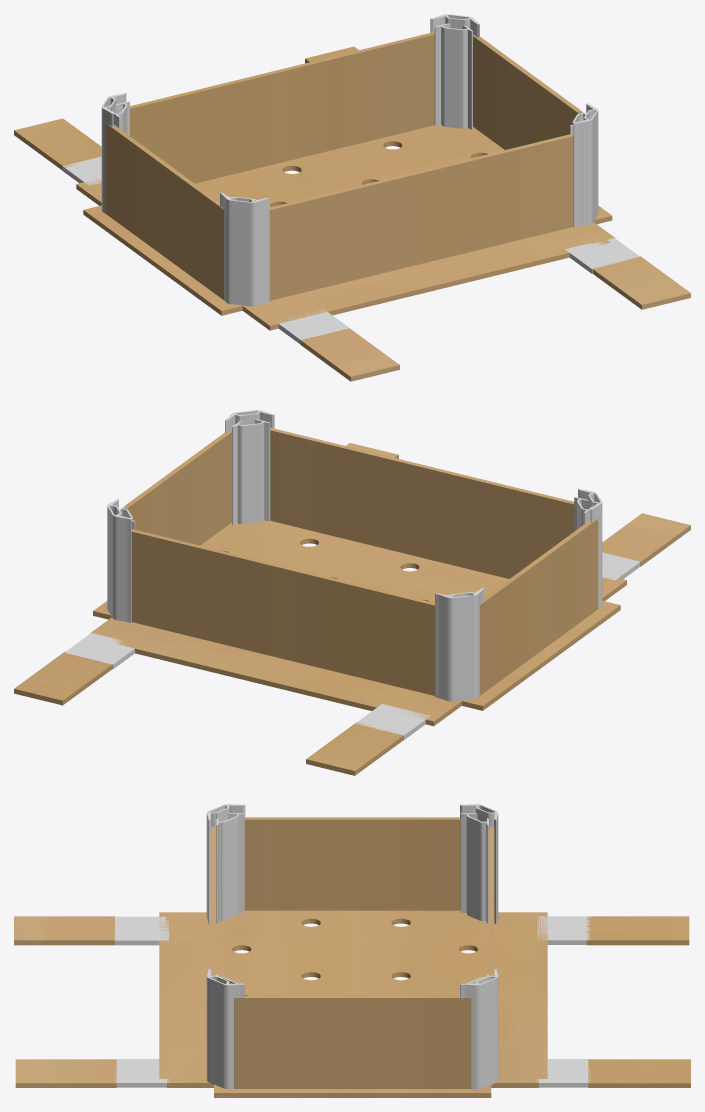
The model's file is theTripes666.dae.
The picture shows the model from 3 angles, top to bottom: view 1: azimuth 30°, elevation 25°; view 2: azimuth 150°, elevation 25°; view 3: azimuth 270°, elevation 25°; orthographic projection.
Parts seen in each view (by area): view 1: Cu, Cu_001, Cube_001, mpakalos5, vasitripes, Cube, mpakalos31, Plane_003, Plane_001, mpakalos3, mpakalos2, mpakalos4 (+4 smaller); view 2: Cu_001, Cu, Cube_001, mpakalos5, vasitripes, Cube, mpakalos31, Plane_002, Plane_004, mpakalos3, mpakalos2, mpakalos4 (+3 smaller); view 3: Cube, Cube_001, vasitripes, mpakalos5, mpakalos31, mpakalos3, mpakalos2, Plane_003, Plane_002, mpakalos, Plane_004, Plane_001 (+4 smaller).
Part boxes in pixels (x1,y1,x2,y2): Cu: (269,133,573,300); Cu_001: (130,32,434,183); Cube_001: (106,123,224,300); mpakalos5: (76,125,610,330); vasitripes: (199,127,489,207); Cube: (473,34,579,149); mpakalos31: (14,46,690,381); Plane_003: (220,192,269,306); Plane_001: (430,14,479,129); mpakalos3: (38,138,666,363); mpakalos2: (62,156,639,344); mpakalos4: (83,127,612,315); Cu_001: (131,529,434,695); Cu: (270,427,574,578); Cube_001: (480,519,598,695); mpakalos5: (99,520,626,726); vasitripes: (215,522,504,602); Cube: (125,430,231,545); mpakalos31: (14,443,690,775); Plane_002: (435,588,484,701); Plane_004: (225,410,274,525); mpakalos3: (41,530,666,755); mpakalos2: (64,552,640,739); mpakalos4: (93,522,620,710); Cube: (234,995,471,1088); Cube_001: (244,817,460,910); vasitripes: (225,915,480,995); mpakalos5: (159,912,547,1078); mpakalos31: (14,916,690,1087); mpakalos3: (62,916,641,1087); mpakalos2: (114,916,590,1087); Plane_003: (206,804,245,923); Plane_002: (460,804,498,924); mpakalos: (166,916,538,1087); Plane_004: (206,969,245,1089); Plane_001: (460,969,498,1089).
Bounding box in the file's own units: 4.24 × 6.35 × 1.13.
5 materials, 3 textured.
